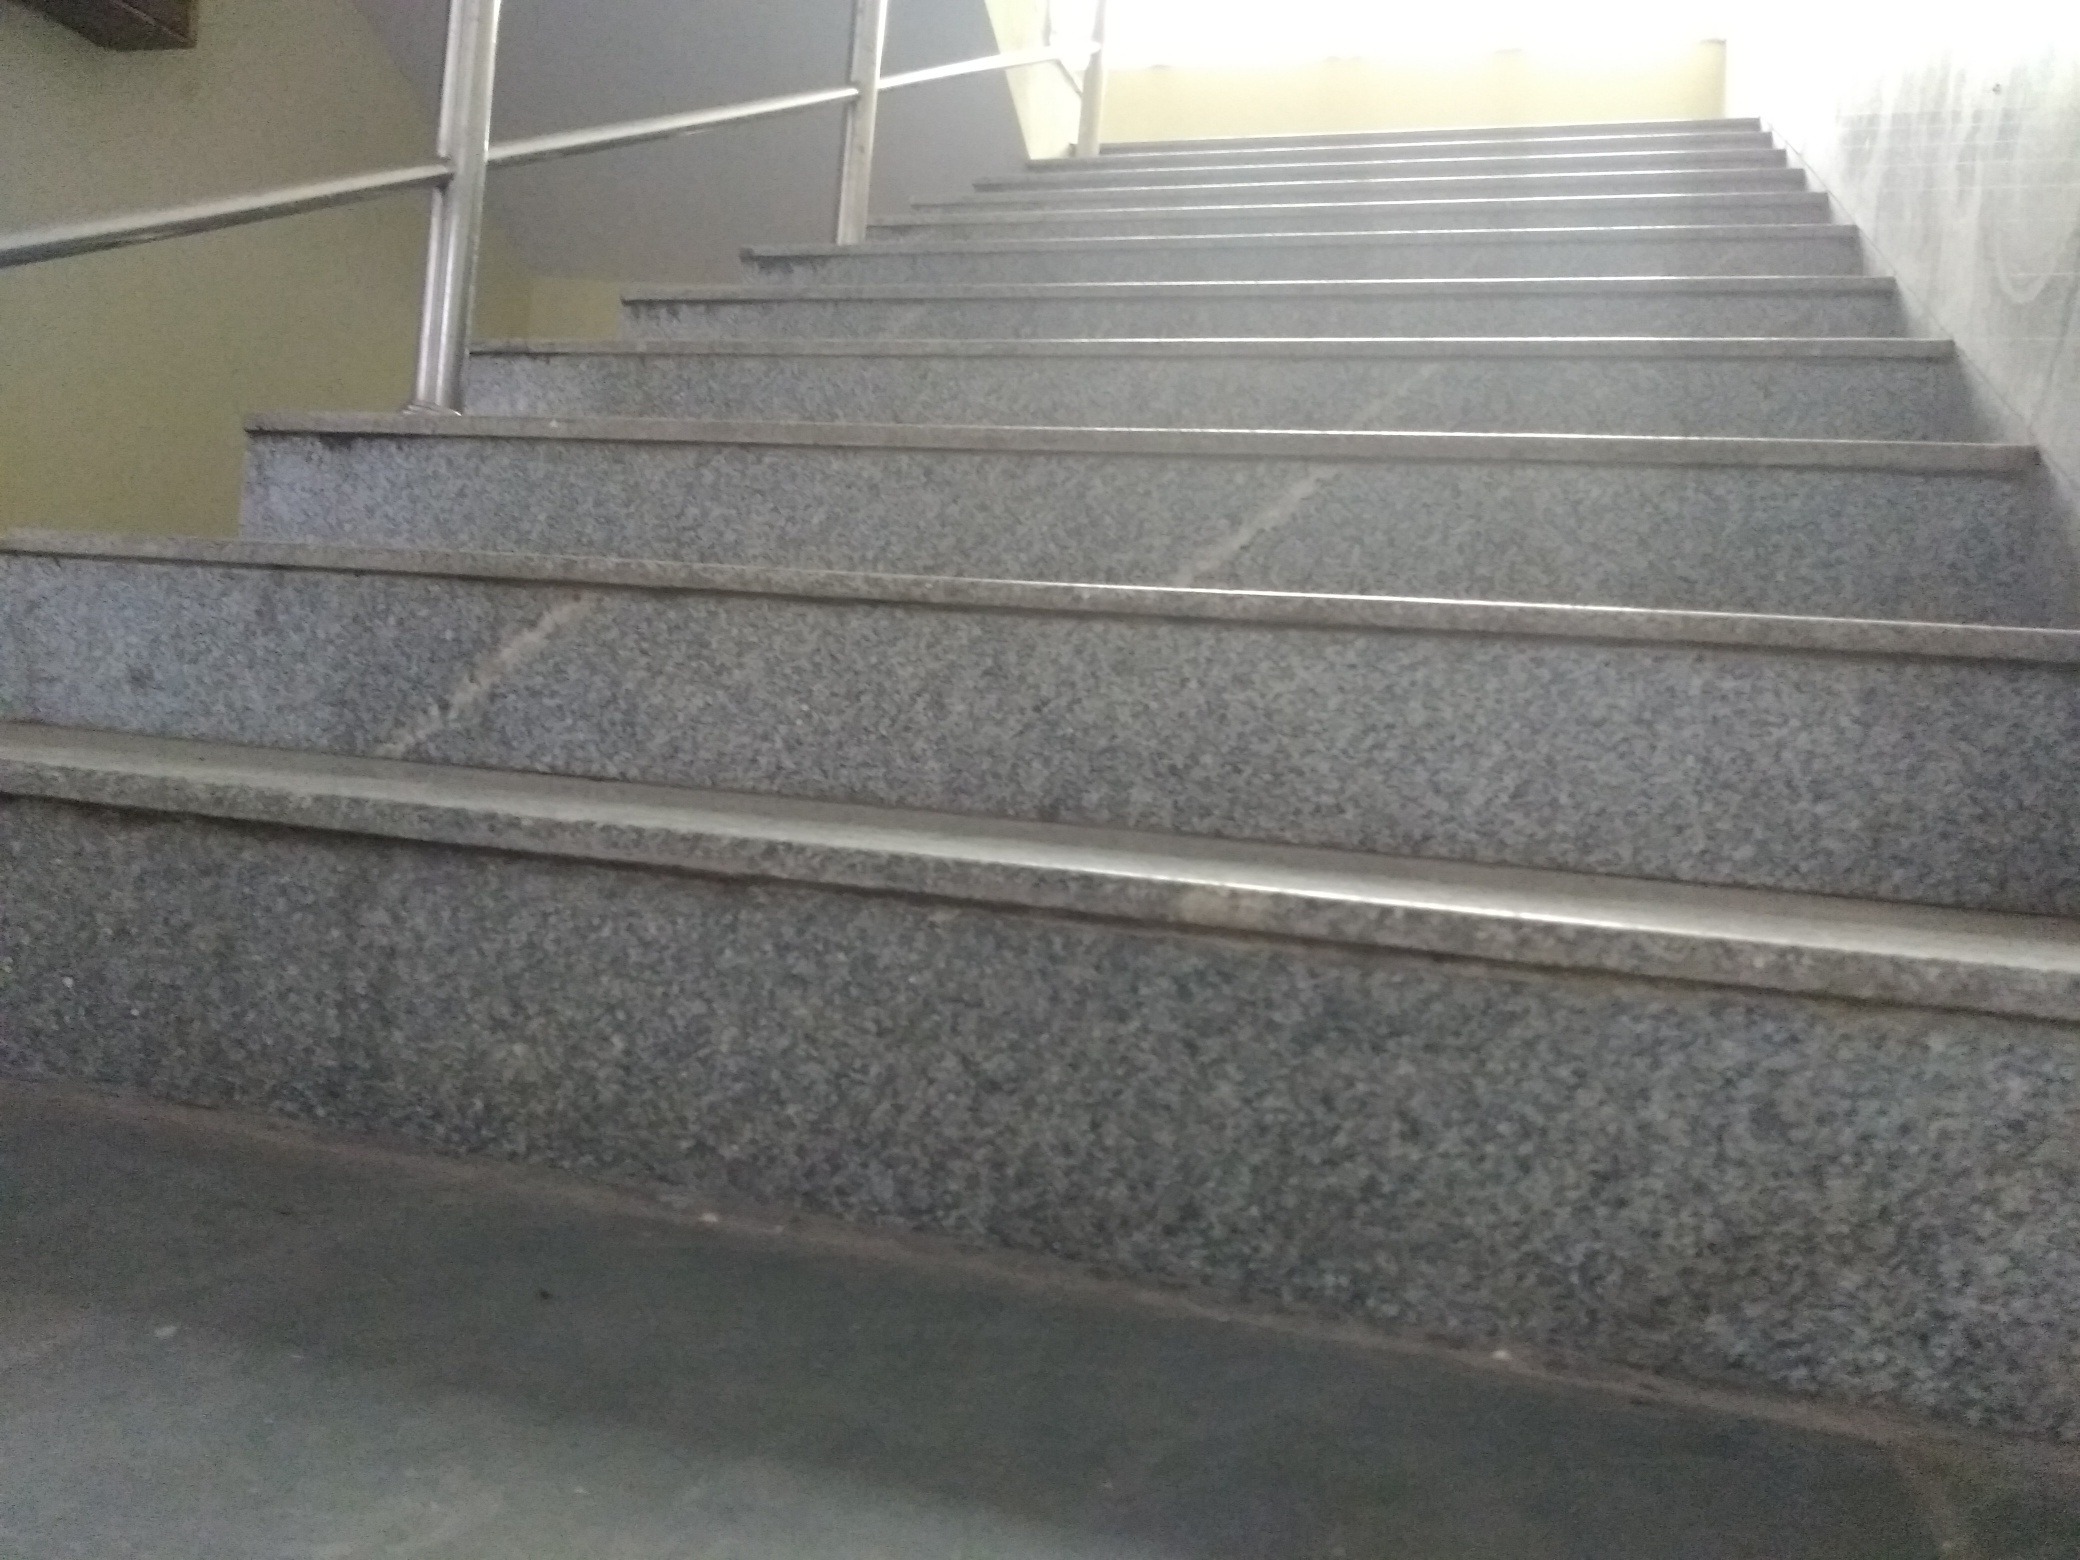stairs_up: (2, 233, 1965, 1190)
